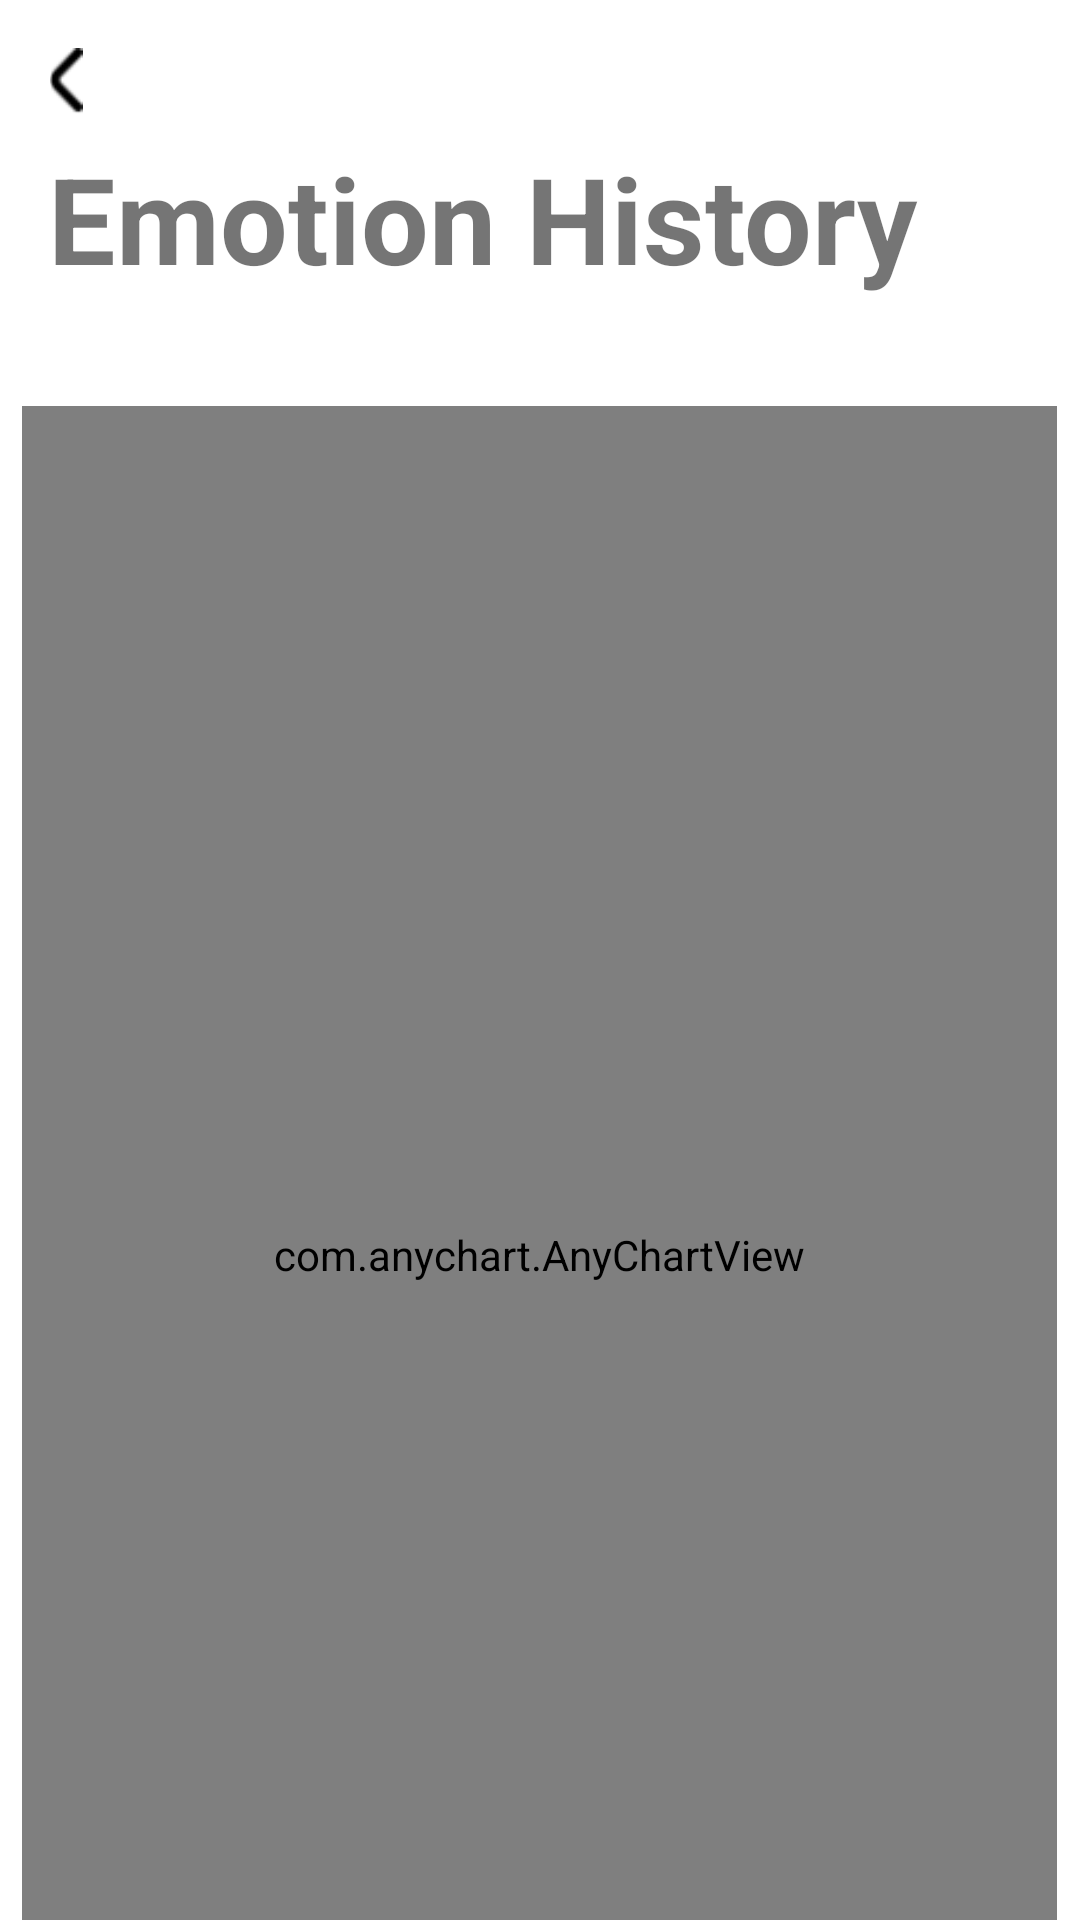

Named icons in this screenshot (1080w x 1920h) and their centers, [x,y]:
back: [66,80]
